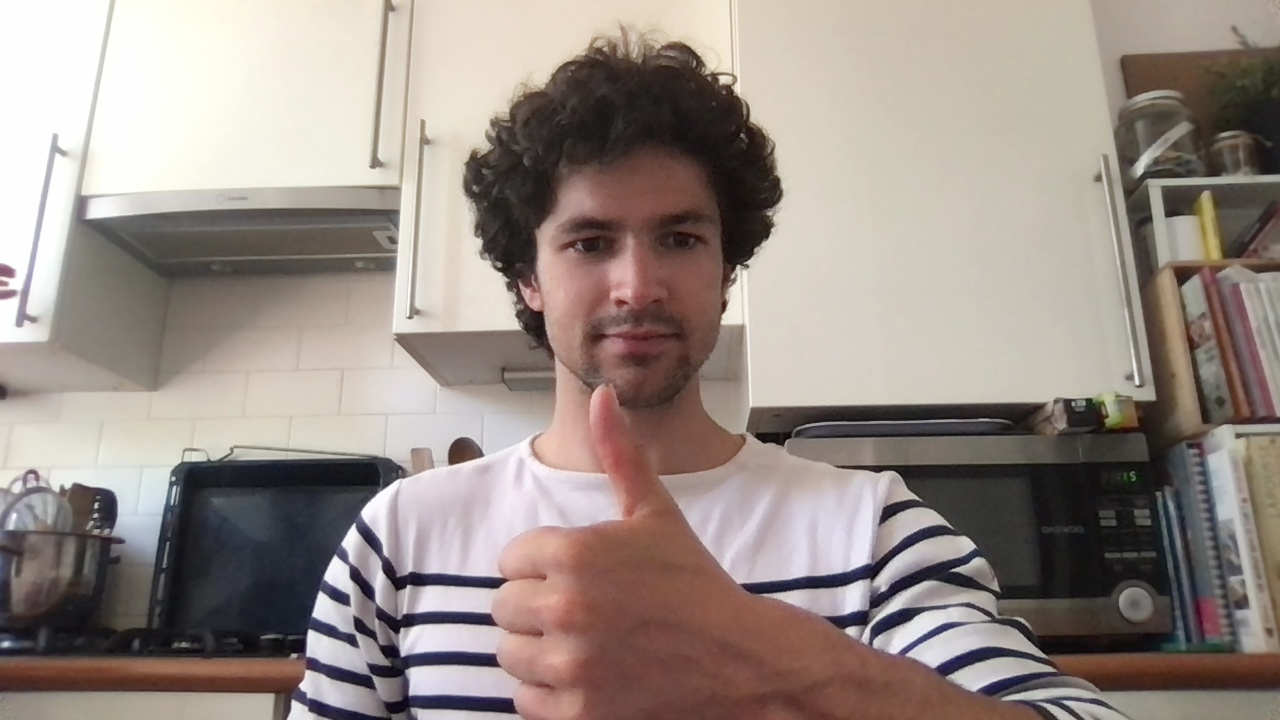thumbUp: (493, 383, 745, 720)
